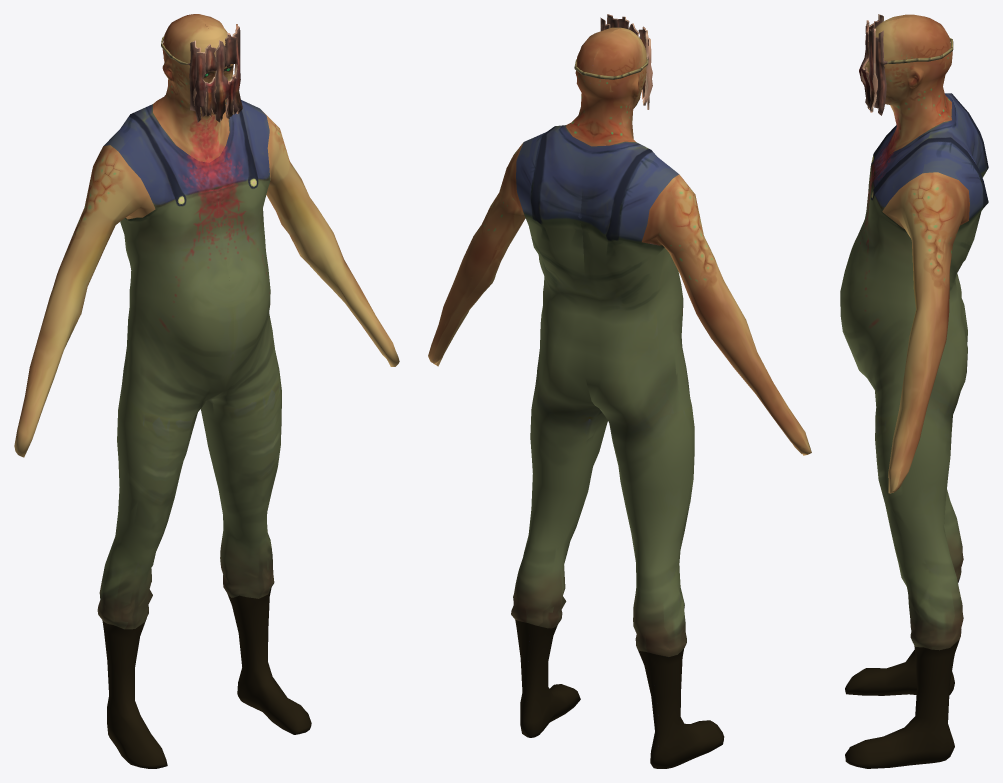
The model's file is monster1-low.fbx.
3 renders of one model, left to right at view 1: azimuth 30°, elevation 25°; view 2: azimuth 150°, elevation 25°; view 3: azimuth 270°, elevation 25°, orthographic.
Visible parts, largest first — view 1: lowpoly, mascara; view 2: lowpoly, mascara; view 3: lowpoly, mascara.
Part boxes in pixels (left/top/right/bottom): lowpoly: left=14, top=14, right=399, bottom=768; mascara: left=161, top=24, right=242, bottom=122; lowpoly: left=428, top=27, right=811, bottom=768; mascara: left=574, top=14, right=652, bottom=109; lowpoly: left=840, top=14, right=988, bottom=768; mascara: left=859, top=14, right=953, bottom=115.
Bounding box in the file's own units: 10.82 × 19.11 × 3.64.
Materials: 6 (6 with a texture image).
